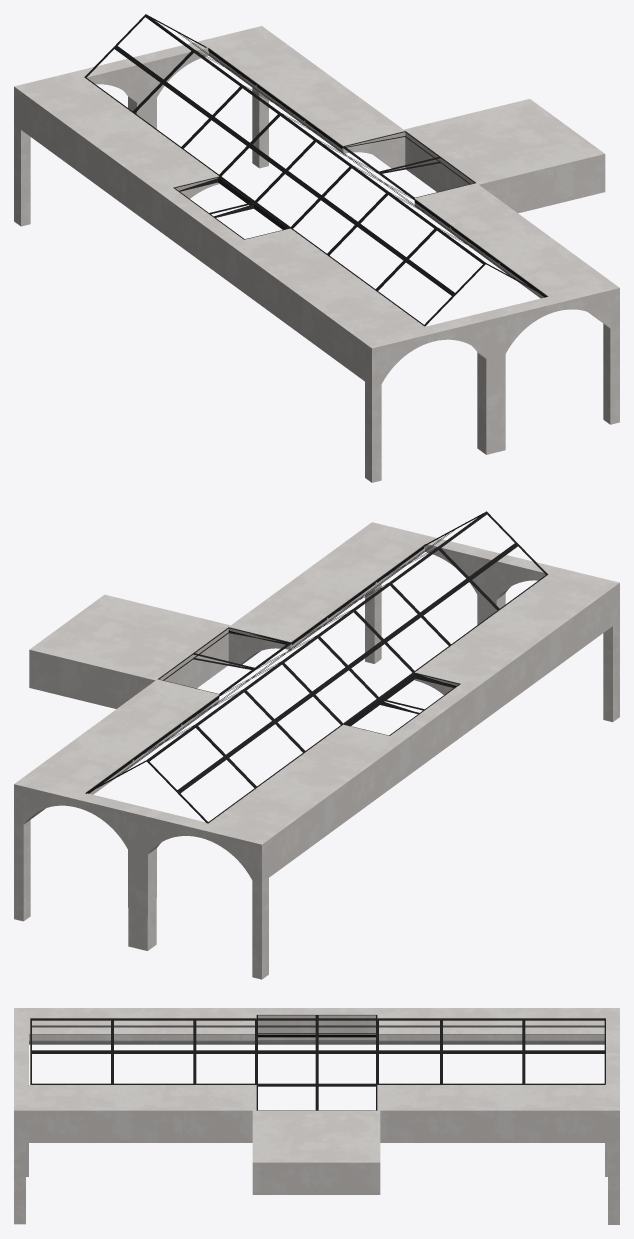
Rendered from Ceiling.glb.
3 views of the same model, one above another, from view 1: azimuth 30°, elevation 25°; view 2: azimuth 150°, elevation 25°; view 3: azimuth 270°, elevation 25° (orthographic). The views are drawn at different scales.
Visible parts, largest first — view 1: Cube.029; view 2: Cube.029; view 3: Cube.029.
Part boxes in pixels (left/top/right/bottom): Cube.029: left=14, top=14, right=619, bottom=482; Cube.029: left=14, top=511, right=619, bottom=979; Cube.029: left=14, top=1008, right=619, bottom=1224.
Size of the model in its own units: 24.15 by 11.3 by 40.
Materials: 2 (1 with a texture image).
